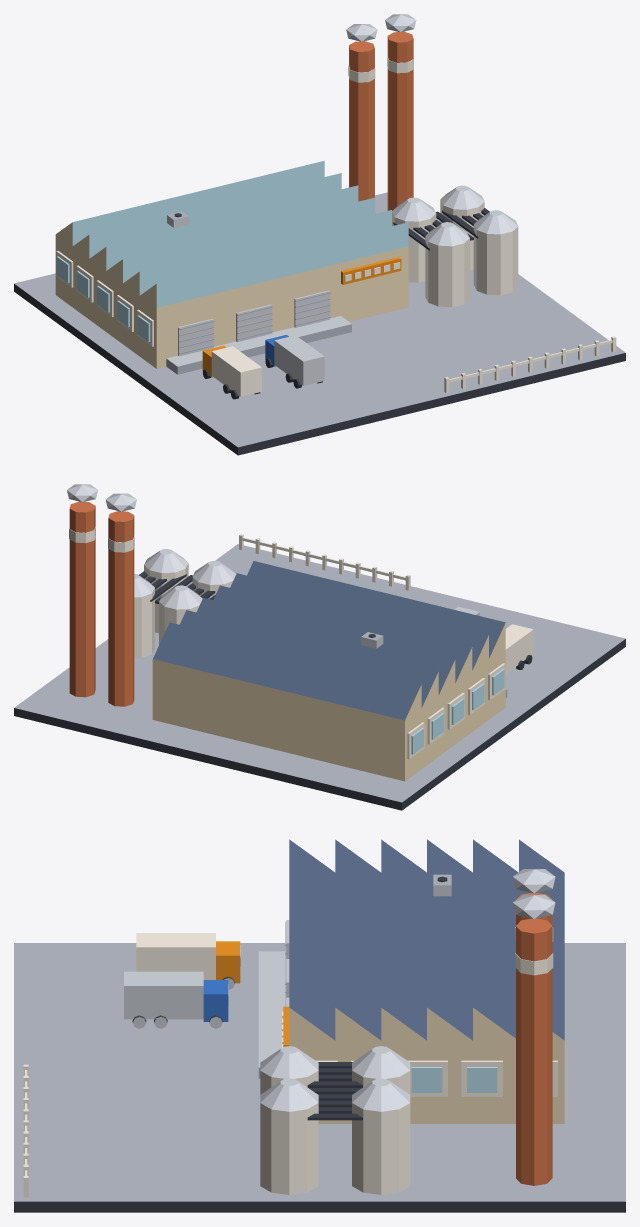
File: industry_factory.glb
3 renders of one model, top to bottom at view 1: azimuth 30°, elevation 25°; view 2: azimuth 150°, elevation 25°; view 3: azimuth 270°, elevation 25°, orthographic. The views are drawn at different scales.
Parts seen in each view (by area): view 1: industry_factory; view 2: industry_factory; view 3: industry_factory.
Part boxes in pixels (x1,y1,x2,y2): industry_factory: (14,14,625,455); industry_factory: (14,484,625,810); industry_factory: (14,839,625,1212).
Bounding box in the file's own units: 2 × 1.06 × 2.
